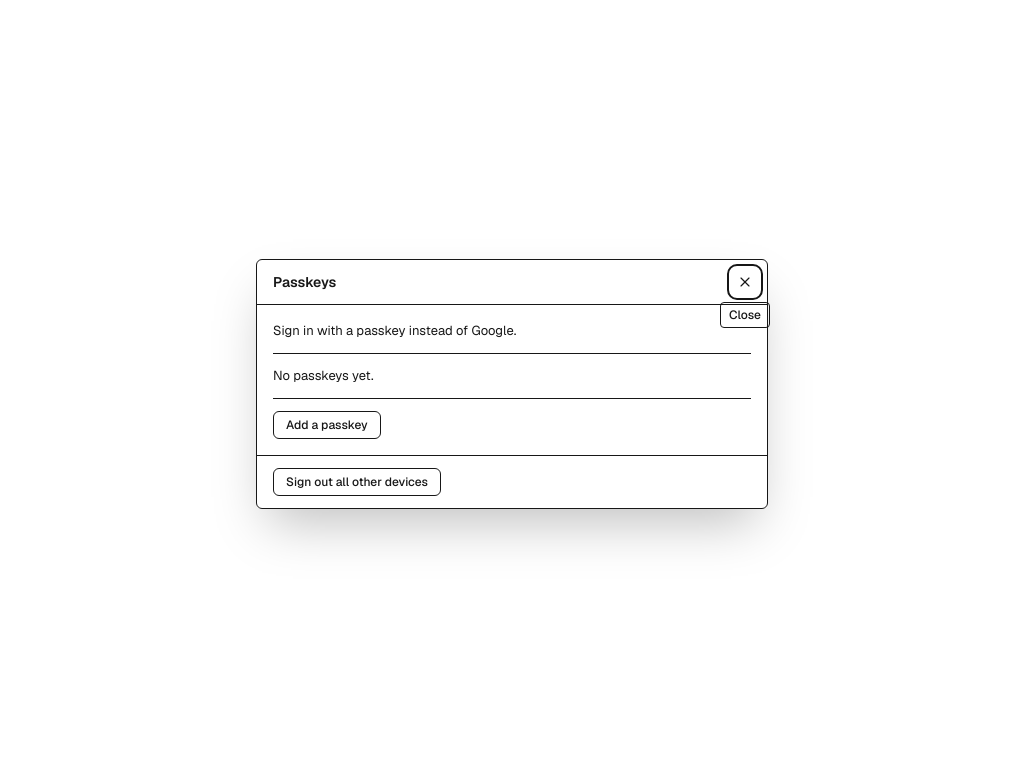
Test case: adding a passkey › with no passkey yet, Google is the only way to sign in again
What coordinates should you click on to do the following:
click the button "Add a passkey"
I would click on:
 (327, 425)
Its box is [273, 411, 381, 439].
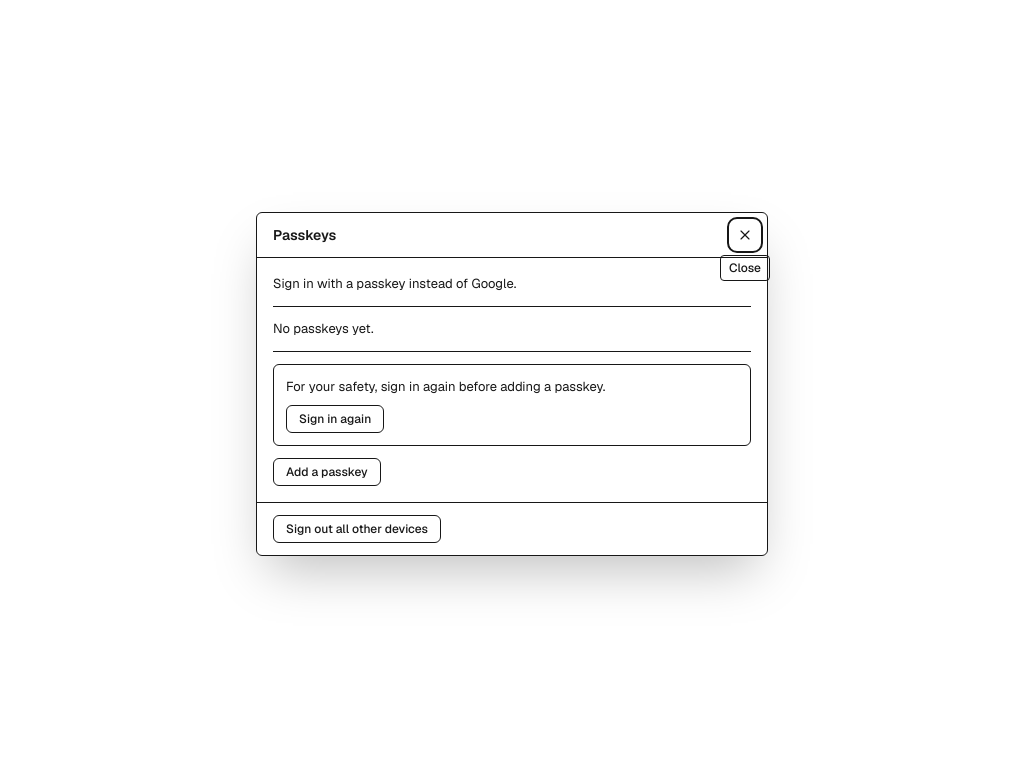
Expected: the button "Sign in again" is shown, [286, 405, 384, 433]
